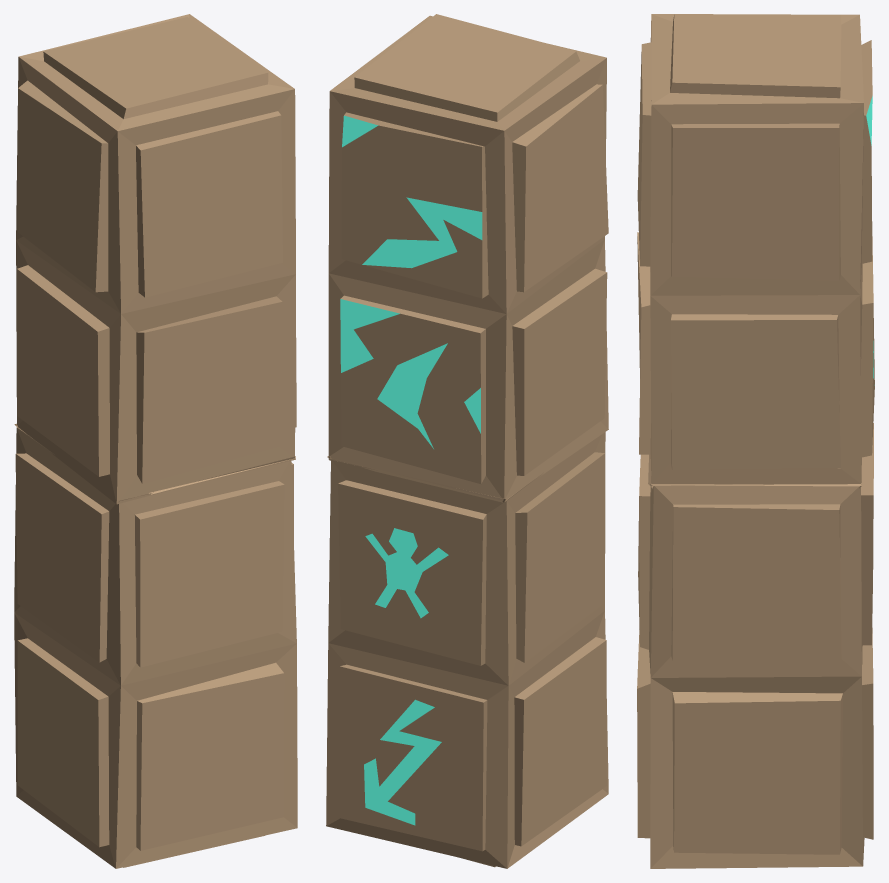
File: Column.glb
3 renders of one model, left to right at view 1: azimuth 30°, elevation 25°; view 2: azimuth 150°, elevation 25°; view 3: azimuth 270°, elevation 25°, orthographic. The views are drawn at different scales.
Visible parts, largest first — view 1: Column.002; view 2: Column.002; view 3: Column.002.
Boxes of the visible parts, x1=… form: Column.002: x1=14, y1=14, x2=297, y2=868; Column.002: x1=326, y1=14, x2=608, y2=868; Column.002: x1=637, y1=14, x2=874, y2=868.
Size of the model in its own units: 2.28 by 8.26 by 2.26.
1 material, 1 textured.
